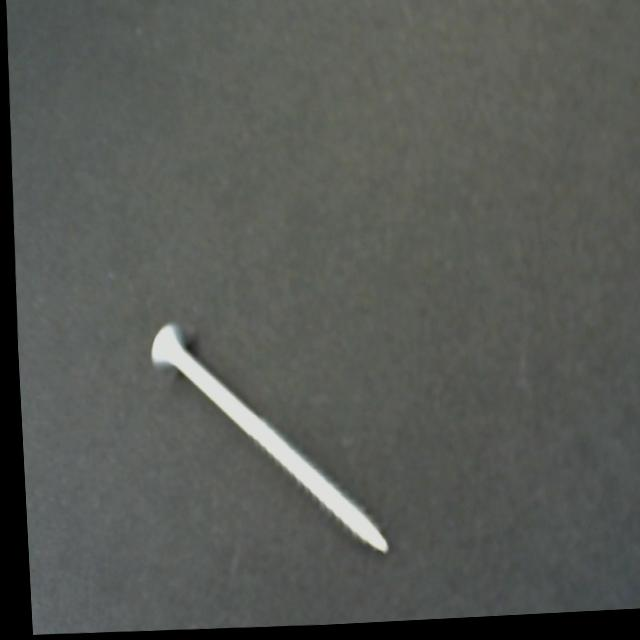WoodScrew: (133, 287, 391, 574)
